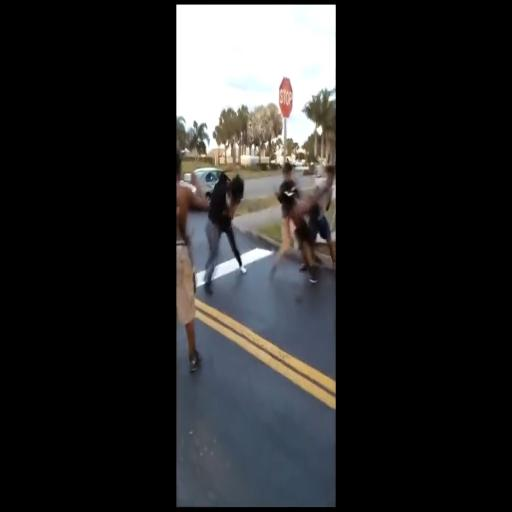violencia: (268, 154, 335, 300), (196, 158, 251, 304)
